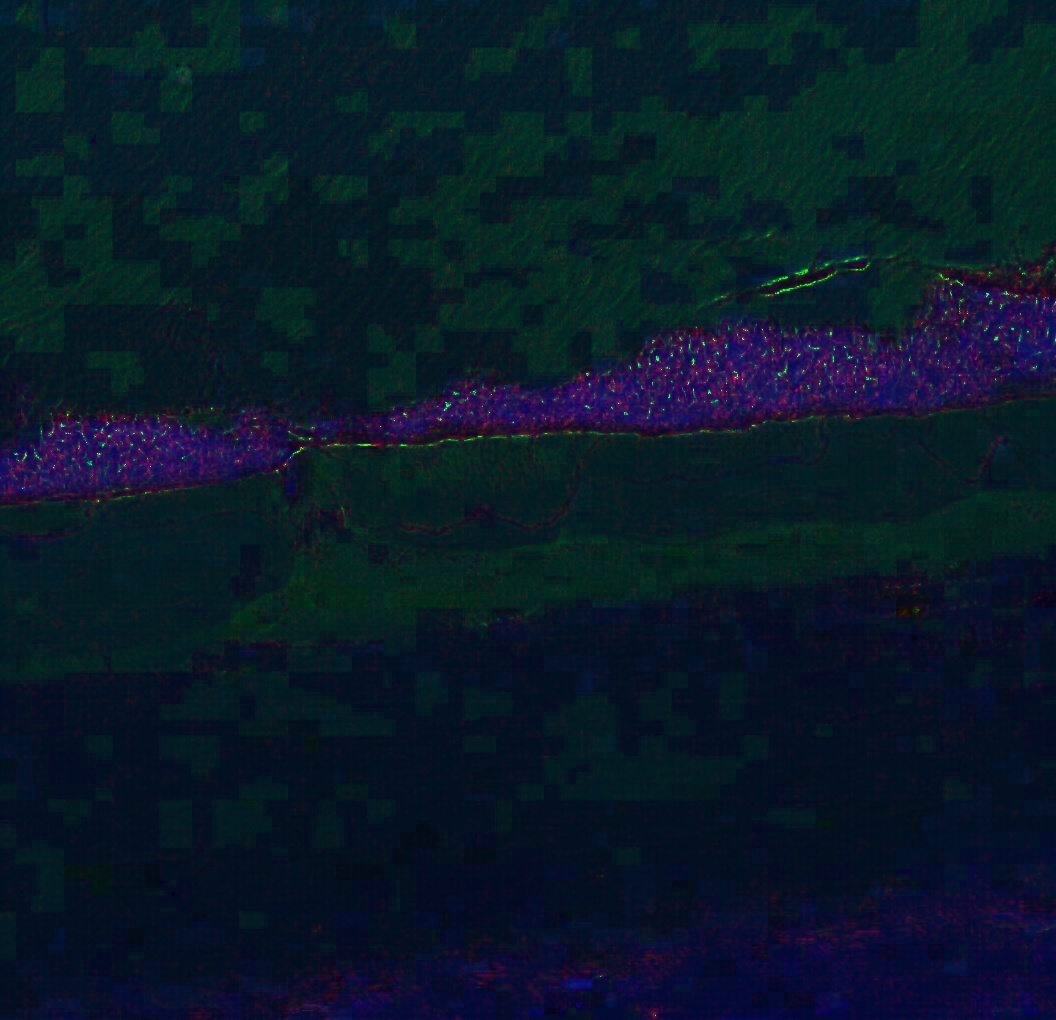rip_current: (196, 354, 343, 502)
